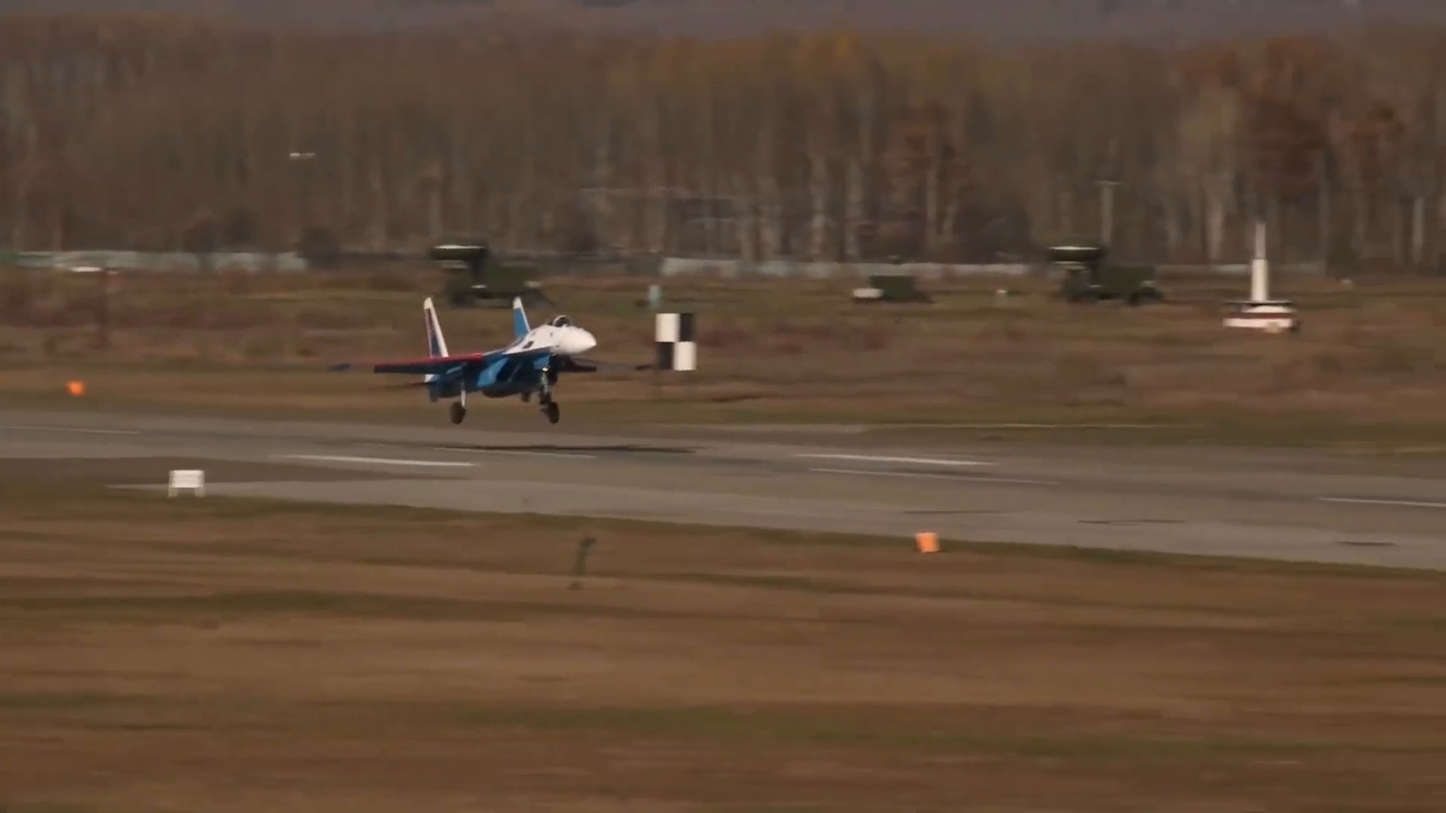Su35: (328, 296, 653, 426)
